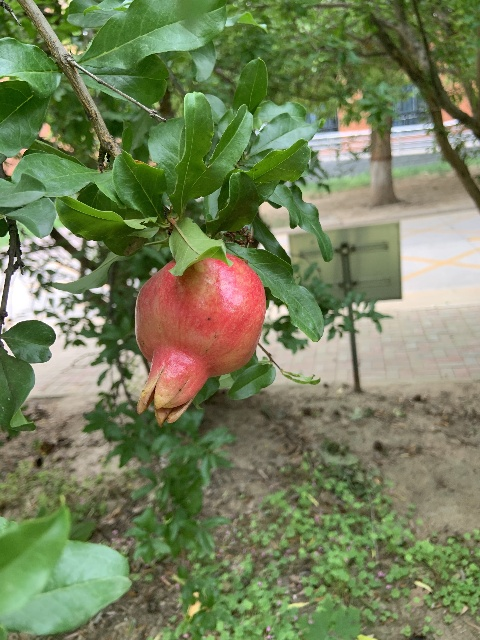ripe: (133, 253, 266, 426)
